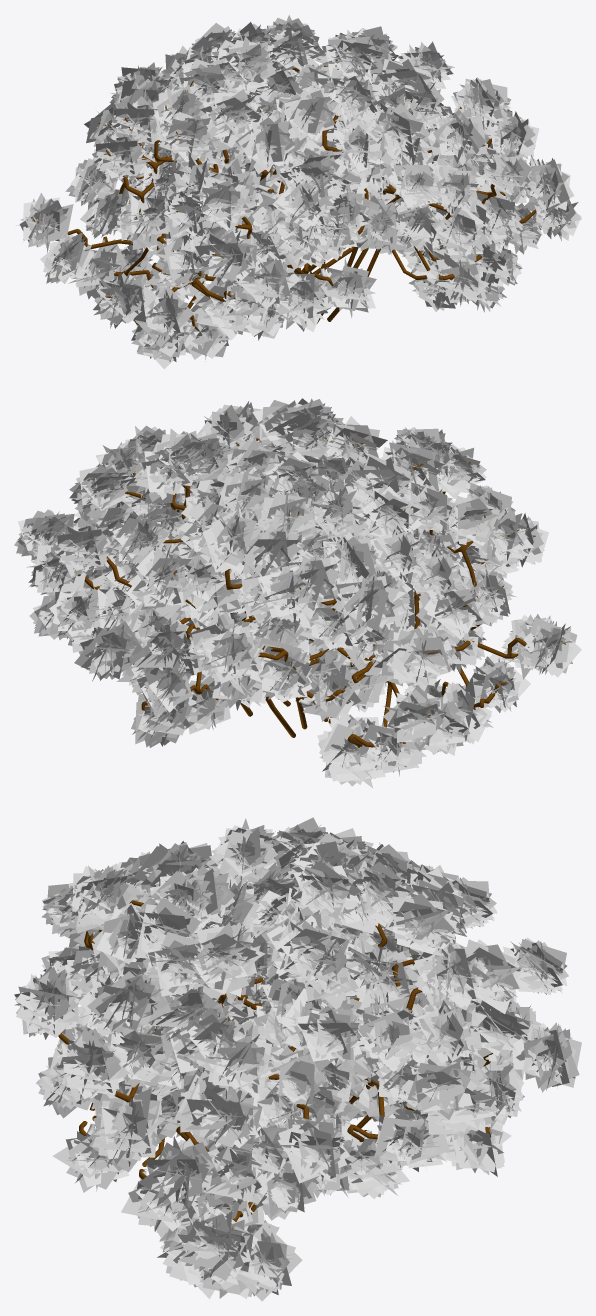
Rendered from ThorBush.fbx.
3 renders of one model, top to bottom at view 1: azimuth 30°, elevation 25°; view 2: azimuth 150°, elevation 25°; view 3: azimuth 270°, elevation 25°, orthographic. The views are drawn at different scales.
Visible parts, largest first — view 1: Leafs, Wood; view 2: Leafs, Wood; view 3: Leafs, Wood.
Boxes of the visible parts, box(x1,y1,x2,y2) form: Leafs: box(16, 15, 581, 369); Wood: box(34, 57, 536, 331); Leafs: box(14, 398, 581, 788); Wood: box(63, 437, 565, 747); Leafs: box(14, 817, 581, 1301); Wood: box(58, 885, 492, 1221).
Bounding box in the file's own units: 895 × 497 × 733.
